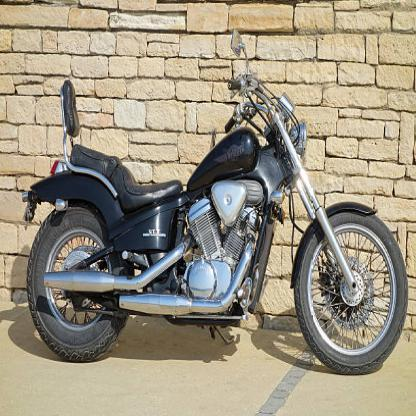Motorcycle: (13, 25, 414, 376)
